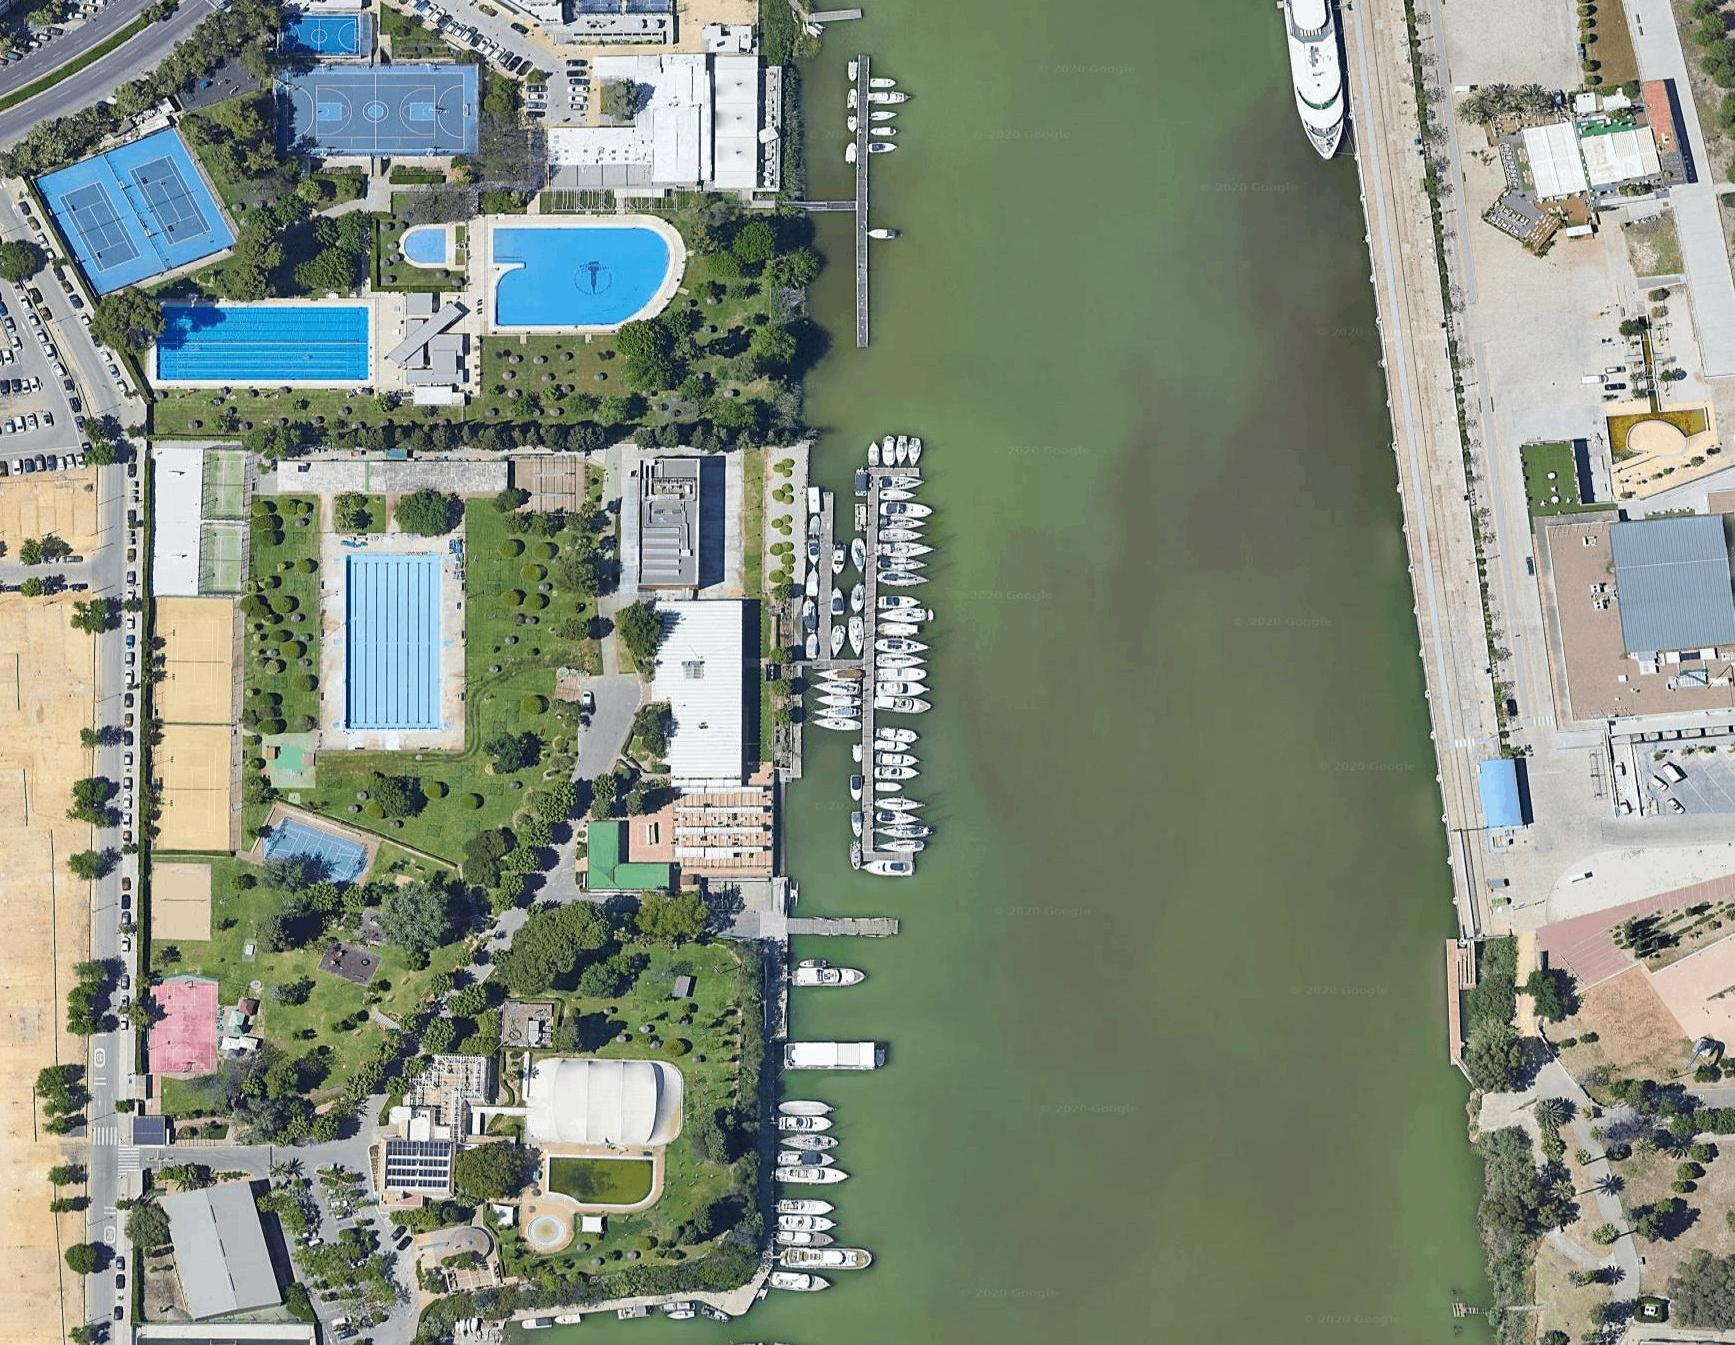basketball-court: (289, 63, 468, 166), (241, 807, 362, 894)
harbor: (853, 455, 922, 883), (829, 42, 903, 337), (784, 894, 908, 948)
ship: (1259, 1, 1353, 165), (776, 1246, 872, 1272), (765, 1270, 829, 1296), (858, 858, 915, 877)
swimming-pool: (476, 217, 677, 341), (161, 304, 375, 380), (393, 218, 459, 273)
tennis-court: (54, 166, 149, 270), (132, 156, 186, 235)
